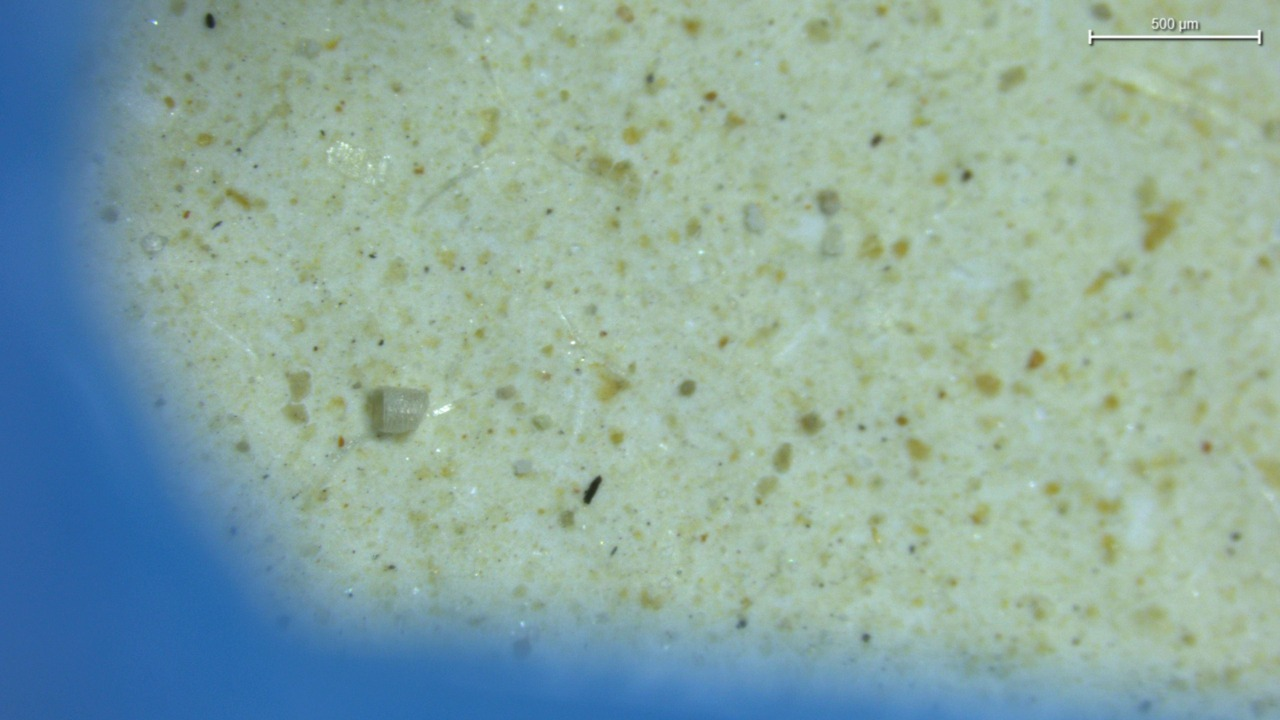microplastic_fragment: (379, 387, 428, 434)
